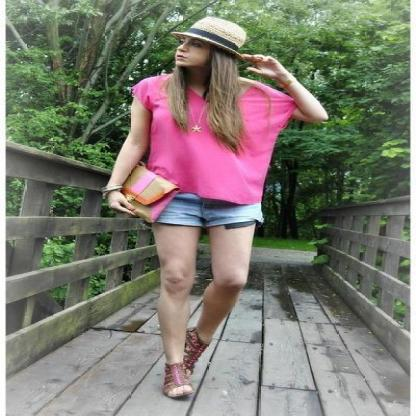bag: (112, 158, 201, 221)
hat: (174, 14, 246, 58)
shirt: (127, 70, 287, 205)
shoe: (157, 341, 217, 396)
shorts: (141, 193, 261, 238)
